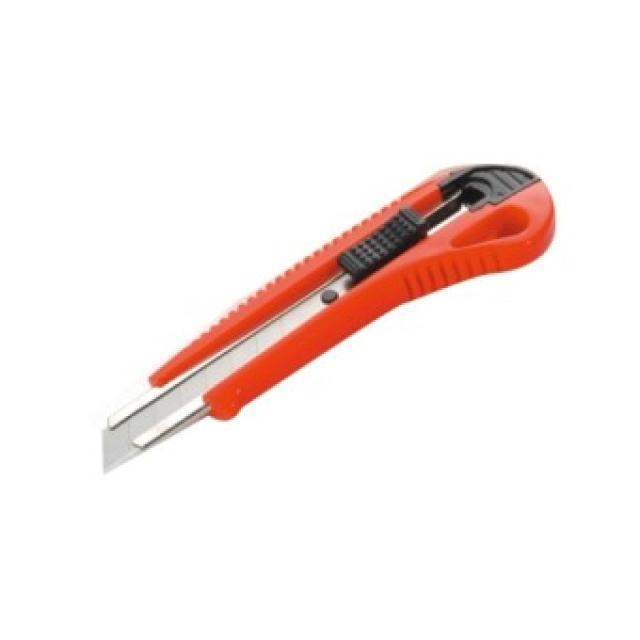cutter: (89, 156, 565, 487)
